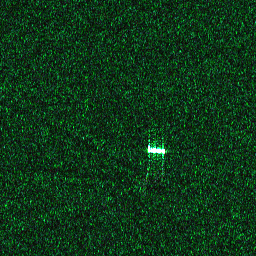ship: (145, 145, 167, 156)
